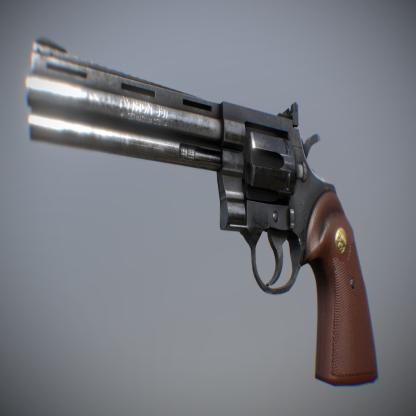handgun: (23, 38, 382, 389)
